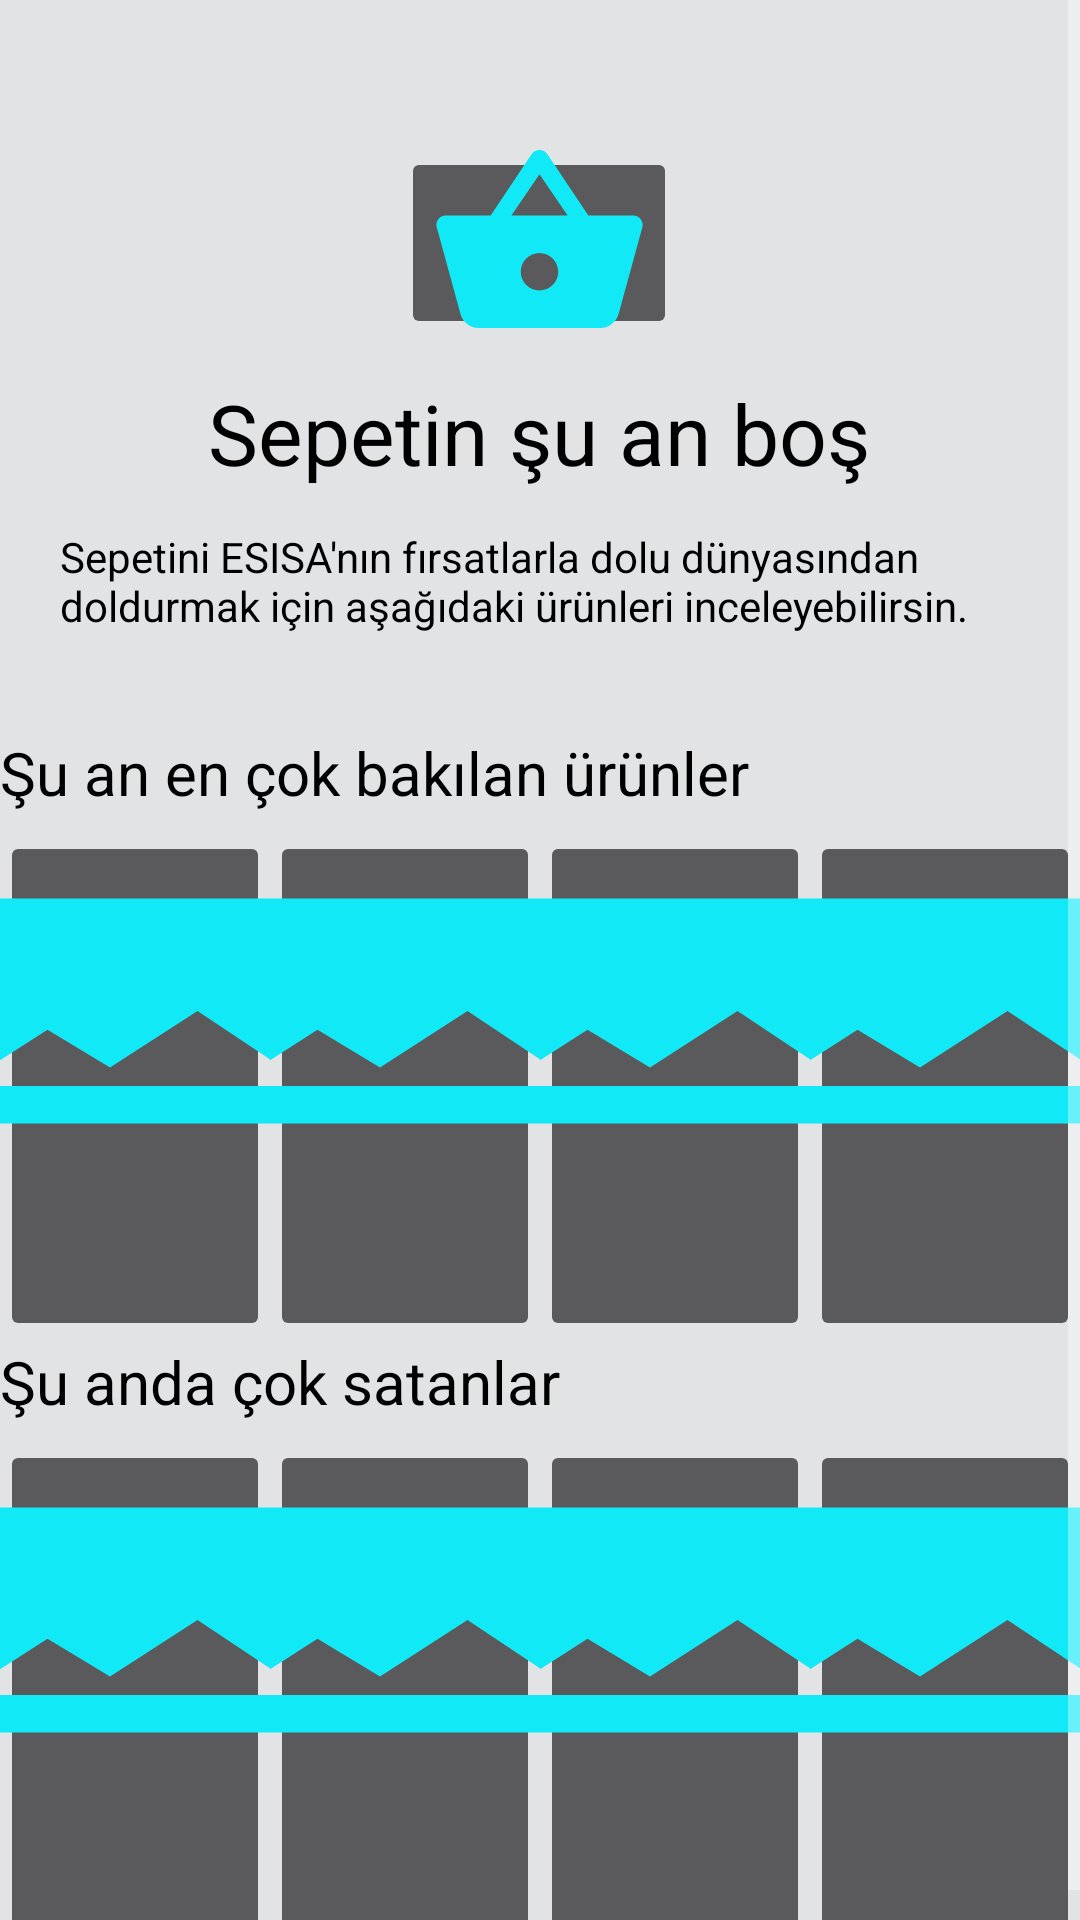

Icons on this 1080 x 1920 Android screen, each with its box as (x1, y1, x2, y2):
shopping basket: (413, 150, 665, 328)
